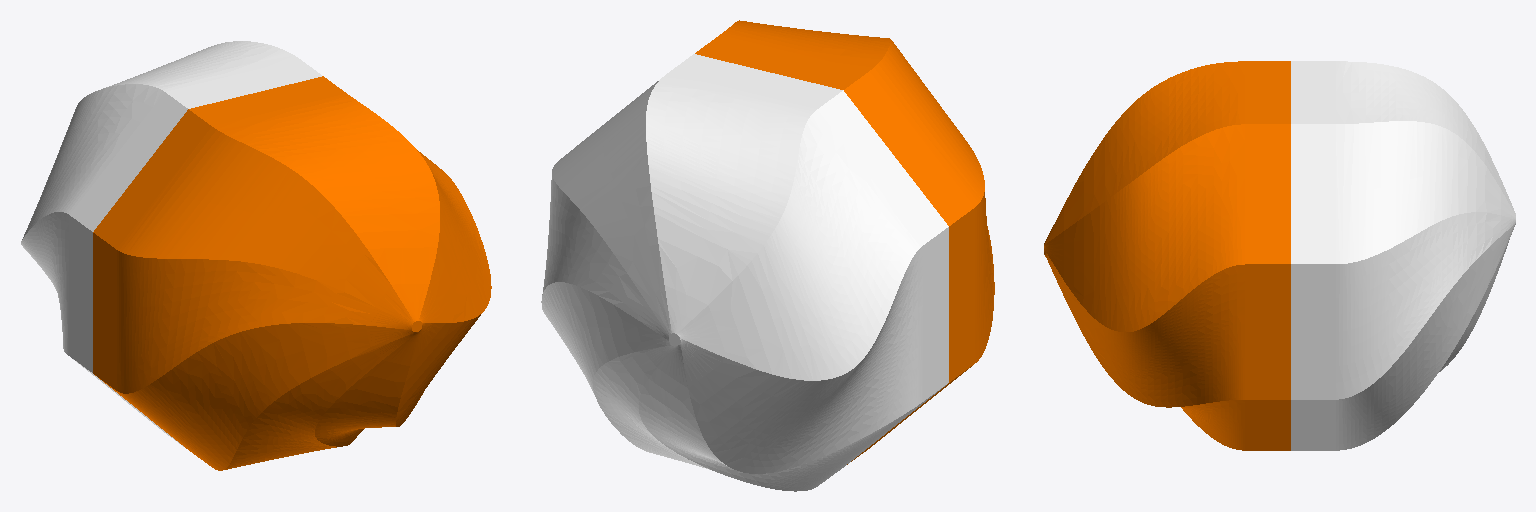
robot.urdf — hellorock:
<?xml version="1.0" ?>
<robot name="hellorock">
  <link name="Part_1_1">
    <visual name="Part_1_1_visual">
      <origin xyz="0 0 0" rpy="0 0 0"/>
      <geometry>
        <mesh filename="meshes/Part_1_1.stl"/>
      </geometry>
      <material name="Part_1_1-material">
        <color rgba="1 0.5 0 0.25"/>
      </material>
    </visual>
    <collision name="Part_1_1_collision">
      <origin xyz="0 0 0" rpy="0 0 0"/>
      <geometry>
        <mesh filename="meshes/Part_1_1.stl"/>
      </geometry>
    </collision>
    <inertial>
      <mass value="0.10437491"/>
      <inertia ixx="0.00018051825" iyy="0.00026757645" izz="0.00018147816" ixy="6.9207484e-06" ixz="-9.9118549e-07" iyz="4.9776314e-06"/>
      <origin xyz="0 0 0" rpy="0 0 0"/>
    </inertial>
  </link>
  <link name="pendulum_1">
    <visual name="pendulum_1_visual">
      <origin xyz="0 0 0" rpy="0 0 0"/>
      <geometry>
        <mesh filename="meshes/pendulum_1.stl"/>
      </geometry>
      <material name="pendulum_1-material">
        <color rgba="1 0 0.5 0.25"/>
      </material>
    </visual>
    <collision name="pendulum_1_collision">
      <origin xyz="0 0 0" rpy="0 0 0"/>
      <geometry>
        <mesh filename="meshes/pendulum_1.stl"/>
      </geometry>
    </collision>
    <inertial>
      <mass value="0.0071673613"/>
      <inertia ixx="1.7166551e-06" iyy="2.0945342e-06" izz="3.0079635e-06" ixy="9.7125441e-13" ixz="3.1462099e-07" iyz="1.152783e-12"/>
      <origin xyz="-0.037231809 3.3807232e-08 0.011111379" rpy="0 0 0"/>
    </inertial>
  </link>
  <link name="Part_1_2">
    <visual name="Part_1_2_visual">
      <origin xyz="0 0 0" rpy="0 0 0"/>
      <geometry>
        <mesh filename="meshes/Part_1_2.stl"/>
      </geometry>
      <material name="Part_1_2-material">
        <color rgba="1 1 1 1"/>
      </material>
    </visual>
    <collision name="Part_1_2_collision">
      <origin xyz="0 0 0" rpy="0 0 0"/>
      <geometry>
        <mesh filename="meshes/Part_1_2.stl"/>
      </geometry>
    </collision>
    <inertial>
      <mass value="0.10207892"/>
      <inertia ixx="0.00017366778" iyy="0.00017452887" izz="0.0002660292" ixy="-9.791365e-07" ixz="-5.7734117e-06" iyz="-4.5689111e-06"/>
      <origin xyz="0.0021558313 0.002175716 0.019769197" rpy="0 0 0"/>
    </inertial>
  </link>
  <link name="leadestimation_1">
    <visual name="leadestimation_1_visual">
      <origin xyz="0 0 0" rpy="0 0 0"/>
      <geometry>
        <mesh filename="meshes/leadestimation_1.stl"/>
      </geometry>
      <material name="leadestimation_1-material">
        <color rgba="0 0 1 1"/>
      </material>
    </visual>
    <collision name="leadestimation_1_collision">
      <origin xyz="0 0 0" rpy="0 0 0"/>
      <geometry>
        <mesh filename="meshes/leadestimation_1.stl"/>
      </geometry>
    </collision>
    <inertial>
      <mass value="0.13856077"/>
      <inertia ixx="2.5003304e-05" iyy="7.9678038e-06" izz="2.1175891e-05" ixy="0" ixz="0" iyz="0"/>
      <origin xyz="2.0816682e-17 -4.8753752e-18 -0.0113" rpy="0 0 0"/>
    </inertial>
  </link>
  <link name="pendulumcap_1">
    <visual name="pendulumcap_1_visual">
      <origin xyz="0 0 0" rpy="0 0 0"/>
      <geometry>
        <mesh filename="meshes/pendulumcap_1.stl"/>
      </geometry>
      <material name="pendulumcap_1-material">
        <color rgba="1 0 0.5 1"/>
      </material>
    </visual>
    <collision name="pendulumcap_1_collision">
      <origin xyz="0 0 0" rpy="0 0 0"/>
      <geometry>
        <mesh filename="meshes/pendulumcap_1.stl"/>
      </geometry>
    </collision>
    <inertial>
      <mass value="0.0015467673"/>
      <inertia ixx="2.4712971e-07" iyy="3.6445559e-08" izz="2.8142381e-07" ixy="0" ixz="-5.8823535e-11" iyz="0"/>
      <origin xyz="0.00017410324 4.9876399e-18 -0.00032712916" rpy="0 0 0"/>
    </inertial>
  </link>
  <joint name="Revolute_1" type="revolute">
    <origin xyz="-0.0024220932 0.021060383 -0.0022385223" rpy="-1.5707963 0 0"/>
    <parent link="Part_1_1"/>
    <child link="pendulum_1"/>
    <axis xyz="0 0 -1"/>
    <limit effort="1" velocity="1" lower="-6.2831853" upper="6.2831853"/>
  </joint>
  <joint name="Fastened_1" type="fixed">
    <origin xyz="-0.0024220932 0.051060383 -0.0022385223" rpy="1.5707963 0 3.1415927"/>
    <parent link="Part_1_1"/>
    <child link="Part_1_2"/>
  </joint>
  <joint name="Fastened_2" type="fixed">
    <origin xyz="-0.044734945 1.7210086e-18 0.0044" rpy="3.1415927 0 0"/>
    <parent link="pendulum_1"/>
    <child link="leadestimation_1"/>
  </joint>
  <joint name="Fastened_3" type="fixed">
    <origin xyz="2.0816682e-17 -9.0799691e-18 -0.0226" rpy="0 0 0"/>
    <parent link="leadestimation_1"/>
    <child link="pendulumcap_1"/>
  </joint>
</robot>

--- Render facts (derived) ---
The picture shows the robot from 3 angles, left to right: view 1: azimuth 30°, elevation 25°; view 2: azimuth 150°, elevation 25°; view 3: azimuth 270°, elevation 25°; orthographic projection.
Robot: hellorock — 5 links, 4 joints (1 revolute, 3 fixed); root link Part_1_1; default pose: all joints at 0.
Visible links, largest first — view 1: Part_1_1, Part_1_2; view 2: Part_1_2, Part_1_1; view 3: Part_1_1, Part_1_2.
Boxes of the visible links, <box> form: Part_1_1: <box>93,76,491,470</box>; Part_1_2: <box>21,41,321,446</box>; Part_1_2: <box>541,54,948,491</box>; Part_1_1: <box>695,20,994,464</box>; Part_1_1: <box>1044,61,1290,450</box>; Part_1_2: <box>1291,61,1515,450</box>.
Size in the robot's own frame: 0.1219 by 0.157 by 0.12 metres.
2 mesh visuals loaded from 5 distinct referenced files (2 binary STL); not drawn: 3 (reference not matched to a file when rendering).